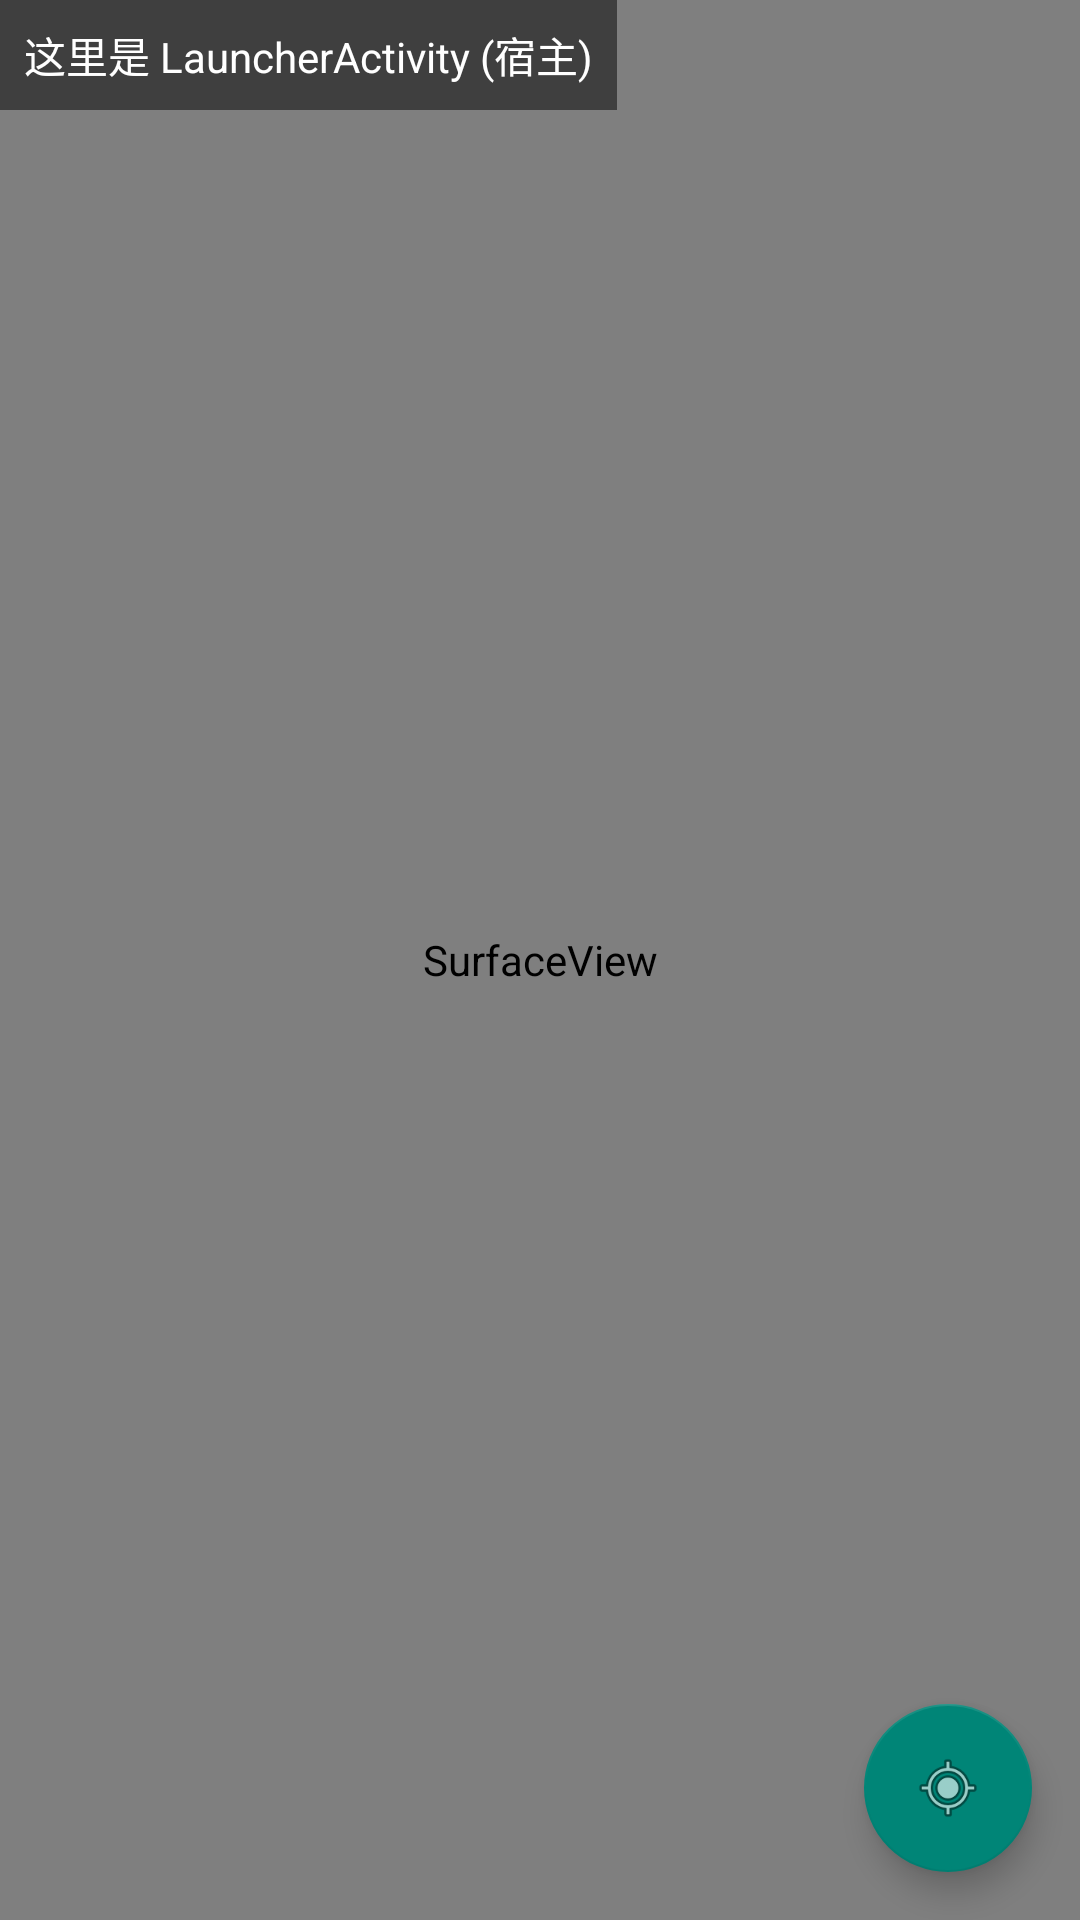

Icon bounding boxes for this 1080 x 1920 phone screenshot, format bbox=(x1, y1, x2, y2):
Recenter Map: bbox=(864, 1704, 1032, 1872)
